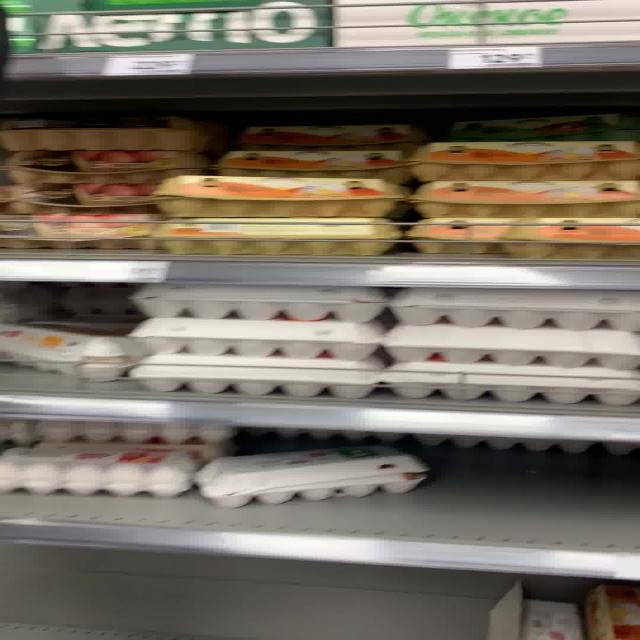egg box: (199, 449, 430, 506), (2, 440, 194, 497), (408, 214, 634, 260), (153, 213, 400, 254), (156, 177, 402, 218), (410, 137, 637, 180), (0, 115, 209, 153), (410, 182, 634, 215), (216, 148, 410, 184), (5, 152, 210, 183), (0, 210, 156, 248), (232, 123, 426, 153), (446, 112, 630, 143), (0, 181, 168, 212)
